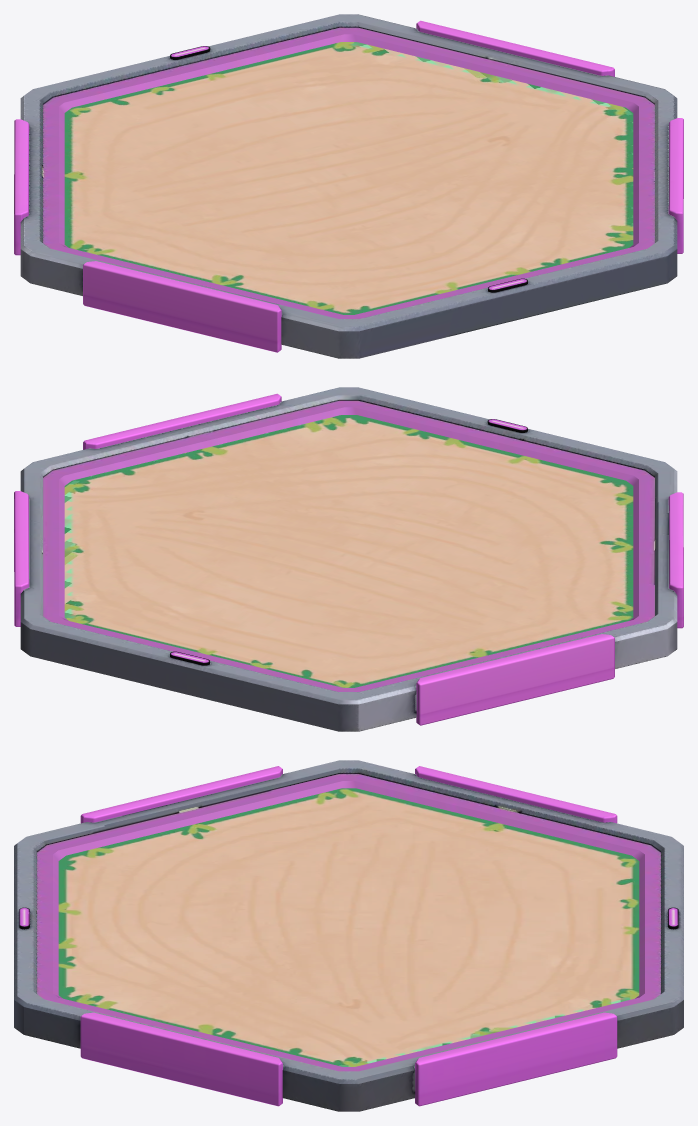
File: pm-hexagon-large-vip-04.glb
3 renders of one model, top to bottom at view 1: azimuth 30°, elevation 25°; view 2: azimuth 150°, elevation 25°; view 3: azimuth 270°, elevation 25°, orthographic. The views are drawn at different scales.
Parts seen in each view (by area): view 1: HexagonLargeVIP04_Art; view 2: HexagonLargeVIP04_Art; view 3: HexagonLargeVIP04_Art.
Boxes of the visible parts, <box> form: HexagonLargeVIP04_Art: <box>14,14,683,358</box>; HexagonLargeVIP04_Art: <box>14,387,683,731</box>; HexagonLargeVIP04_Art: <box>14,760,683,1111</box>.
Bounding box in the file's own units: 31.56 × 1.96 × 27.74.
1 material, 1 textured.
